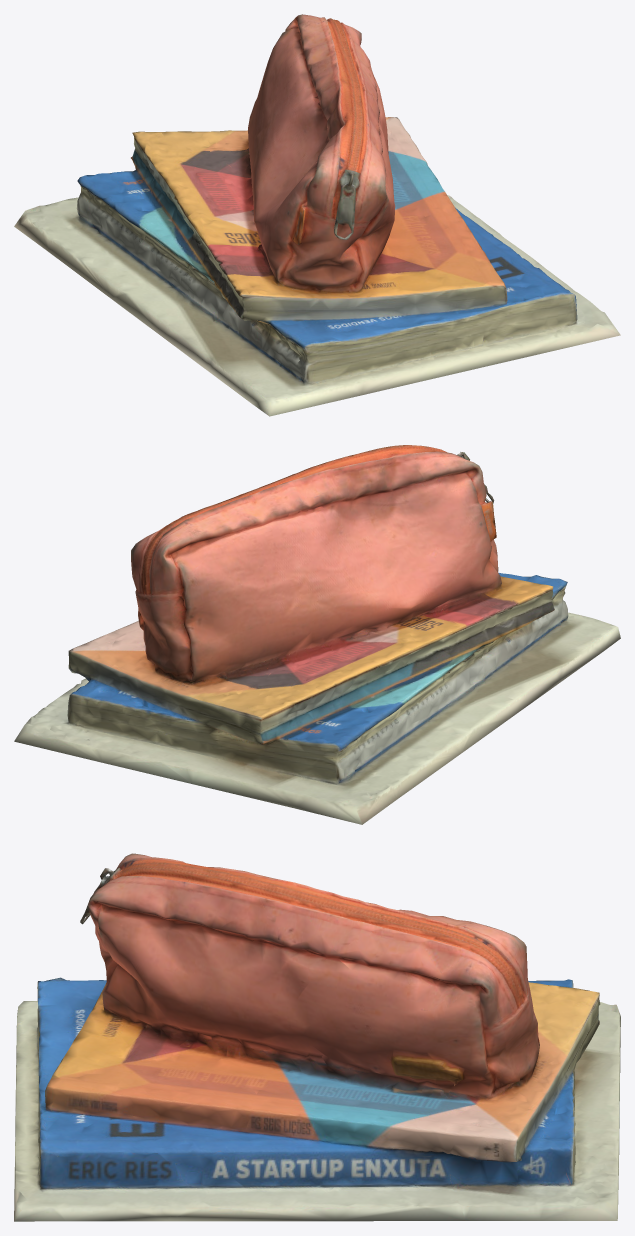
Rendered from estojo.glb.
3 views of the same model, one above another, from view 1: azimuth 30°, elevation 25°; view 2: azimuth 150°, elevation 25°; view 3: azimuth 270°, elevation 25° (orthographic). The views are drawn at different scales.
Parts seen in each view (by area): view 1: Mesh_0_Part_0; view 2: Mesh_0_Part_0; view 3: Mesh_0_Part_0.
Boxes of the visible parts, x1,y1,x2,y2 form: Mesh_0_Part_0: (14, 14, 620, 416); Mesh_0_Part_0: (14, 445, 620, 824); Mesh_0_Part_0: (14, 853, 620, 1221).
Bounding box in the file's own units: 19.55 × 11.21 × 24.85.
Materials: 1 (1 with a texture image).
